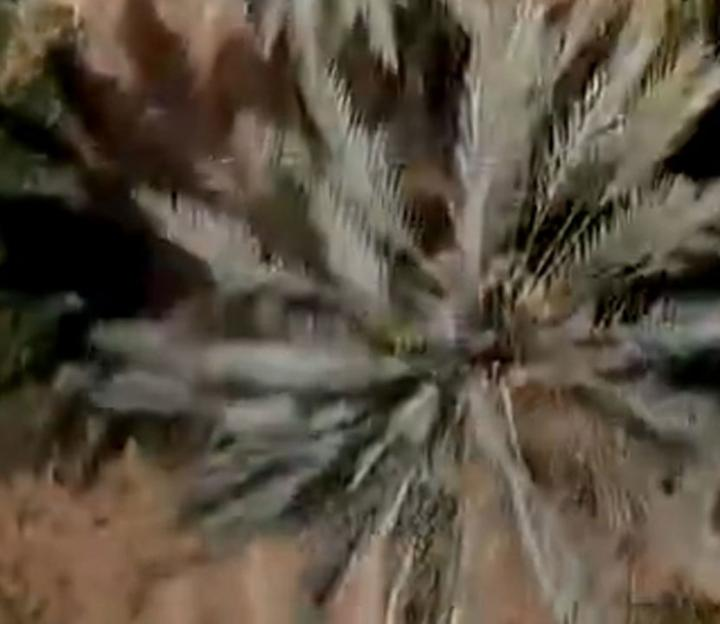Date-Palm-Crown: (316, 194, 600, 504)
